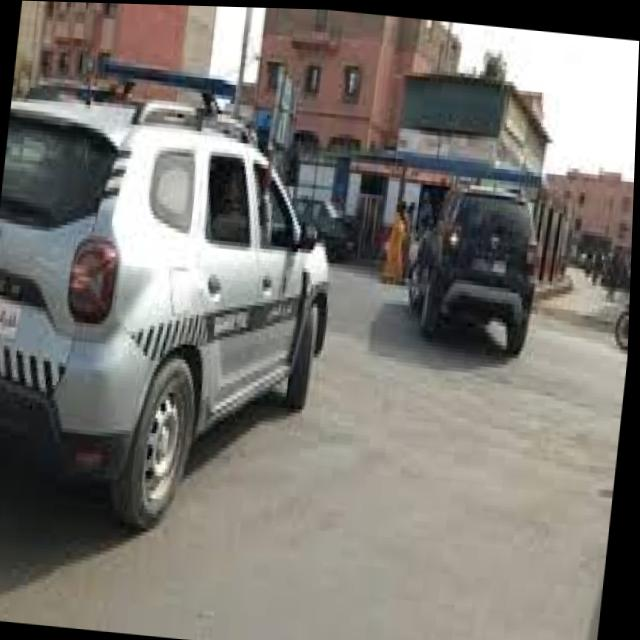gendarme car: (0, 35, 365, 547)
